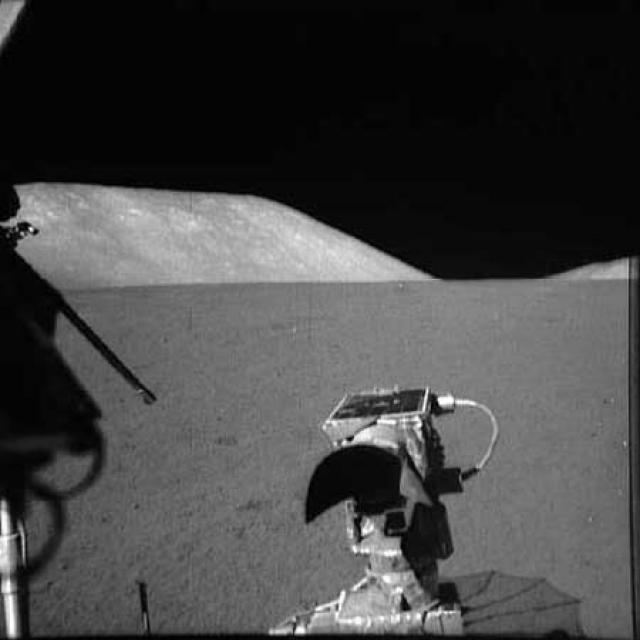artifact: (0, 1, 169, 638), (260, 380, 610, 638)
